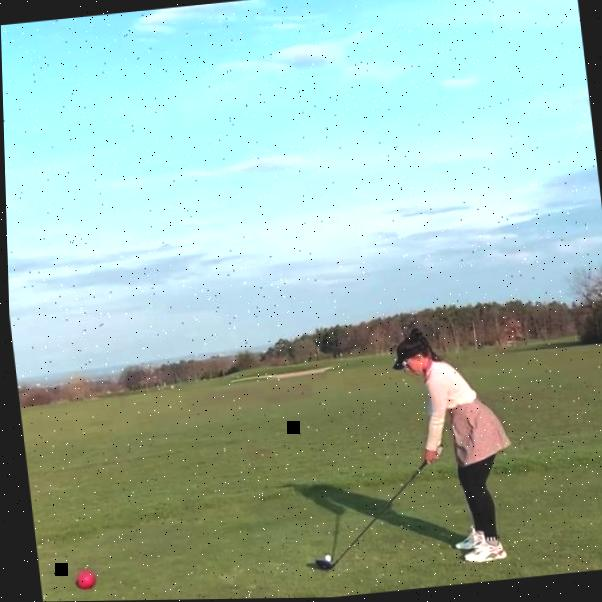ClubHead: (311, 560, 329, 573)
GolfBall: (322, 555, 329, 562)
